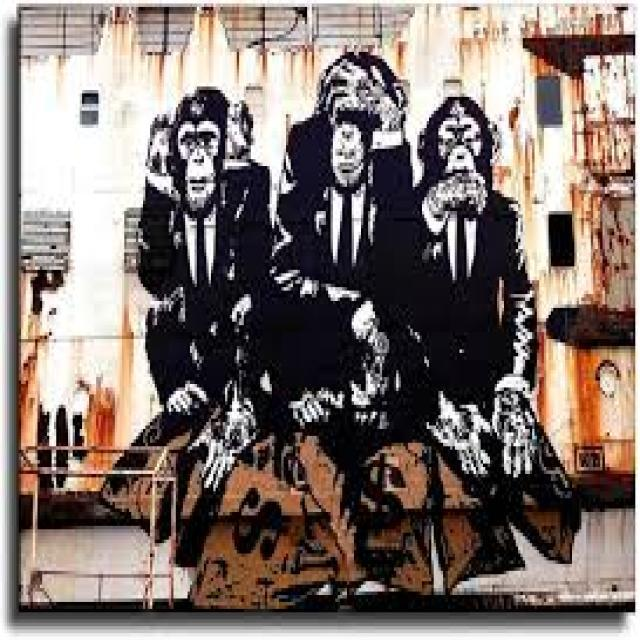-: (100, 52, 585, 606)
